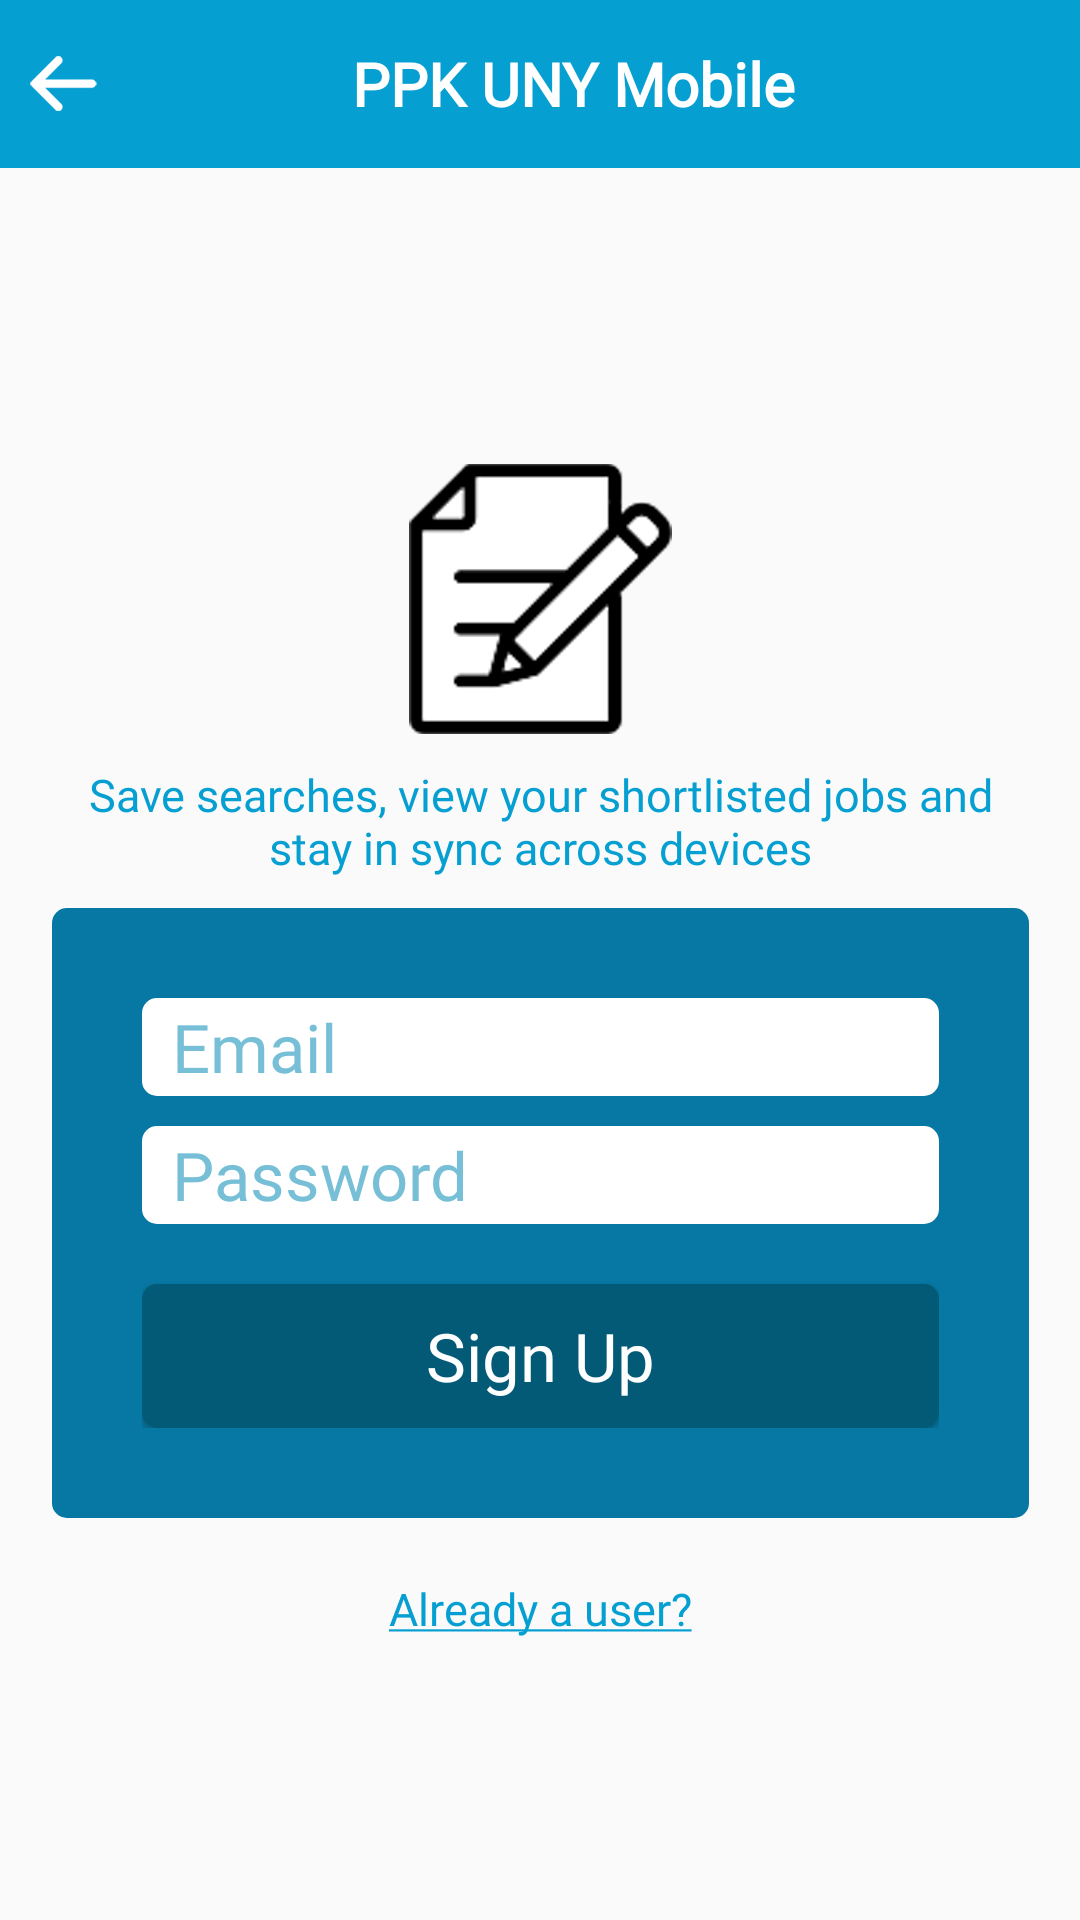

Icons on this 1080 x 1920 Android screen, each with the point to tap as (x=x, y=y):
back: (x=63, y=83)
